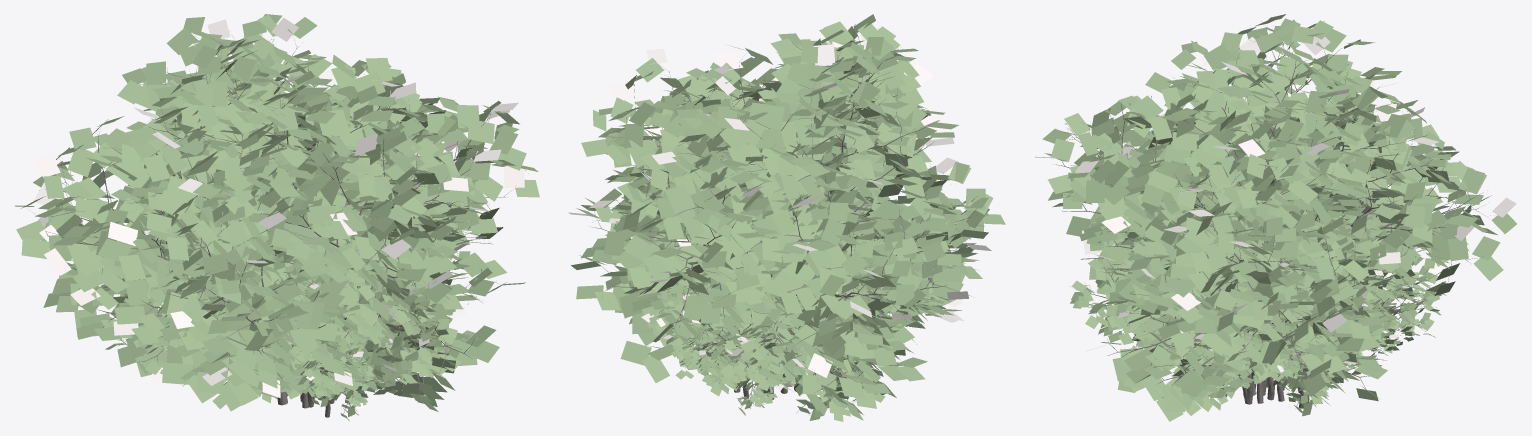
File: european_cranberry_bush.fbx
3 views of the same model, side by side, from view 1: azimuth 30°, elevation 25°; view 2: azimuth 150°, elevation 25°; view 3: azimuth 270°, elevation 25° (orthographic). The views are drawn at different scales.
Parts seen in each view (by area): view 1: Bush.European_Cranberry.Style_1, Bush.European_Cranberry.Style_2, Bush.European_Cranberry.Style_3; view 2: Bush.European_Cranberry.Style_1, Bush.European_Cranberry.Style_2, Bush.European_Cranberry.Style_3; view 3: Bush.European_Cranberry.Style_1, Bush.European_Cranberry.Style_2, Bush.European_Cranberry.Style_3.
Boxes of the visible parts, x1=… form: Bush.European_Cranberry.Style_1: x1=15, y1=14, x2=539, y2=411; Bush.European_Cranberry.Style_2: x1=105, y1=166, x2=479, y2=409; Bush.European_Cranberry.Style_3: x1=260, y1=262, x2=415, y2=421; Bush.European_Cranberry.Style_1: x1=568, y1=14, x2=1005, y2=420; Bush.European_Cranberry.Style_2: x1=608, y1=175, x2=943, y2=421; Bush.European_Cranberry.Style_3: x1=649, y1=263, x2=891, y2=415; Bush.European_Cranberry.Style_1: x1=1035, y1=14, x2=1516, y2=421; Bush.European_Cranberry.Style_2: x1=1070, y1=194, x2=1453, y2=416; Bush.European_Cranberry.Style_3: x1=1135, y1=259, x2=1445, y2=407.
Size of the model in its own units: 135 by 104 by 134.
